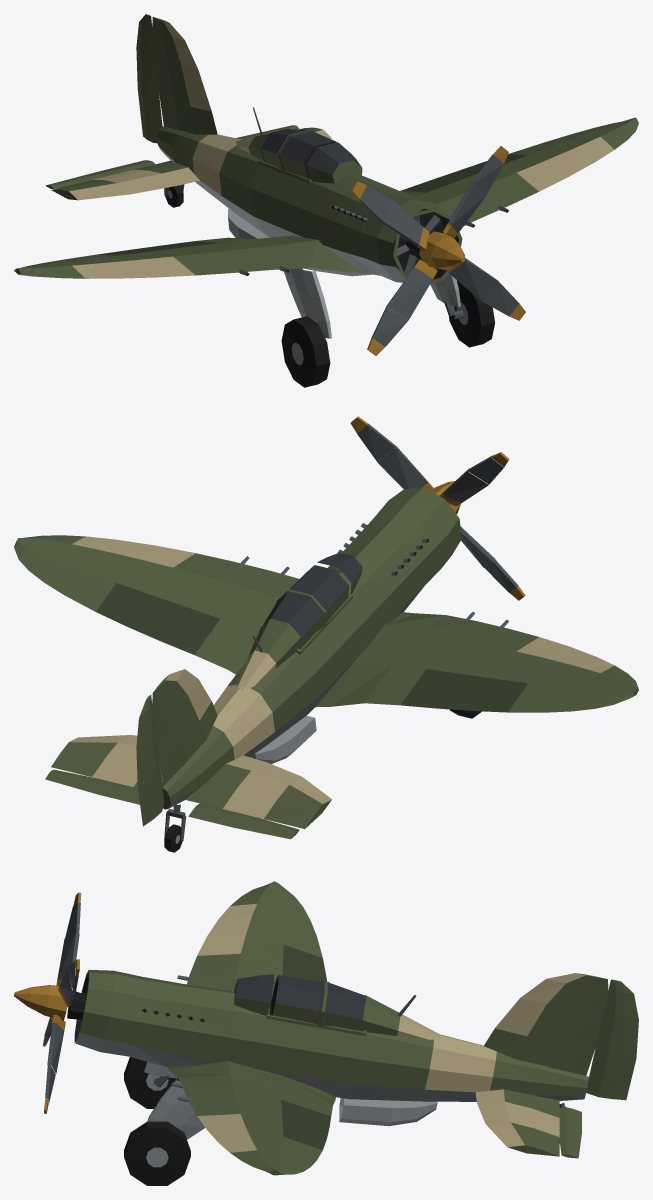
The model's file is aircraft.glb.
3 views of the same model, one above another, from view 1: azimuth 30°, elevation 25°; view 2: azimuth 150°, elevation 25°; view 3: azimuth 270°, elevation 25° (orthographic). The views are drawn at different scales.
Parts seen in each view (by area): view 1: airframe, propeller-mesh, wheel-l-mesh, rudder-mesh, canopy-mesh, wheel-r-mesh, elevator-mesh; view 2: airframe, propeller-mesh, canopy-mesh, elevator-mesh, rudder-mesh; view 3: airframe, rudder-mesh, propeller-mesh, canopy-mesh, wheel-r-mesh, wheel-l-mesh, elevator-mesh.
Part boxes in pixels (box(x1,y1,x2,y2)): airframe: box(14, 17, 638, 338); propeller-mesh: box(351, 146, 525, 355); wheel-l-mesh: box(281, 316, 330, 387); rudder-mesh: box(136, 14, 162, 143); canopy-mesh: box(261, 129, 336, 178); wheel-r-mesh: box(449, 280, 494, 347); elevator-mesh: box(45, 125, 299, 188); airframe: box(14, 488, 638, 840); propeller-mesh: box(350, 416, 525, 600); canopy-mesh: box(263, 565, 348, 648); elevator-mesh: box(45, 769, 299, 839); rudder-mesh: box(136, 695, 164, 826); airframe: box(67, 881, 608, 1175); rudder-mesh: box(586, 979, 638, 1100); propeller-mesh: box(14, 892, 81, 1113); canopy-mesh: box(272, 975, 364, 1030); wheel-r-mesh: box(124, 1121, 190, 1185); wheel-l-mesh: box(124, 1057, 179, 1108); elevator-mesh: box(559, 1107, 581, 1158).
Bounding box in the file's own units: 9 × 3.18 × 8.25.
